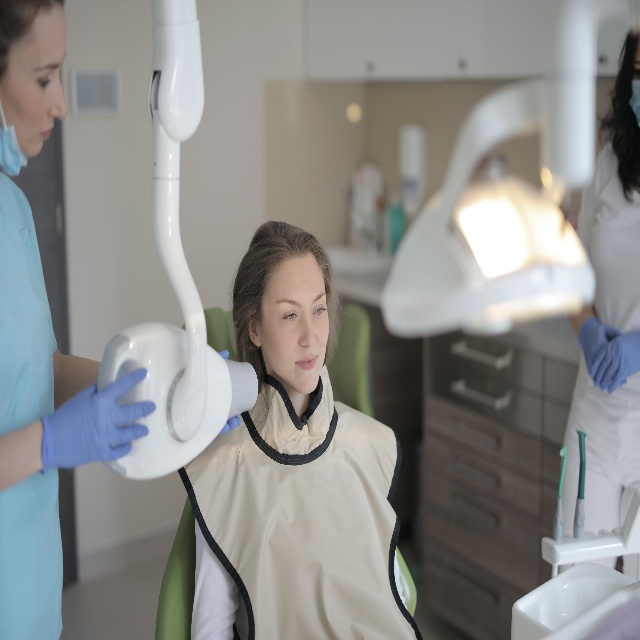Guantes: (39, 367, 156, 476), (578, 317, 627, 390), (589, 332, 640, 394), (221, 416, 241, 434)
Mascara: (0, 103, 29, 180), (629, 78, 640, 128)
